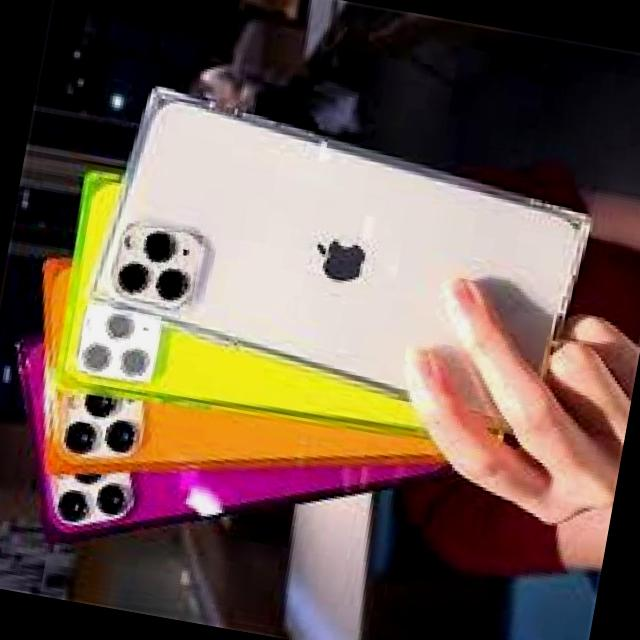lens_back: (150, 263, 194, 305), (138, 226, 183, 266), (91, 479, 132, 518), (61, 416, 102, 454), (112, 258, 150, 296), (101, 417, 140, 454), (54, 487, 92, 522), (80, 390, 120, 420), (78, 341, 114, 374), (101, 308, 135, 341), (118, 346, 152, 376)
phone: (86, 69, 604, 432)
